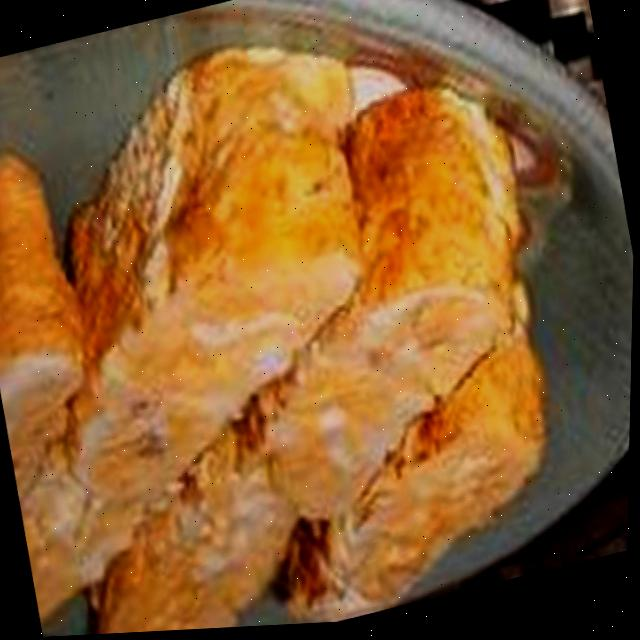鸡蛋料理: (0, 0, 609, 640)
